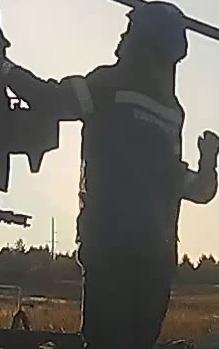gloves: (196, 129, 219, 177)
vest: (77, 69, 189, 260)
